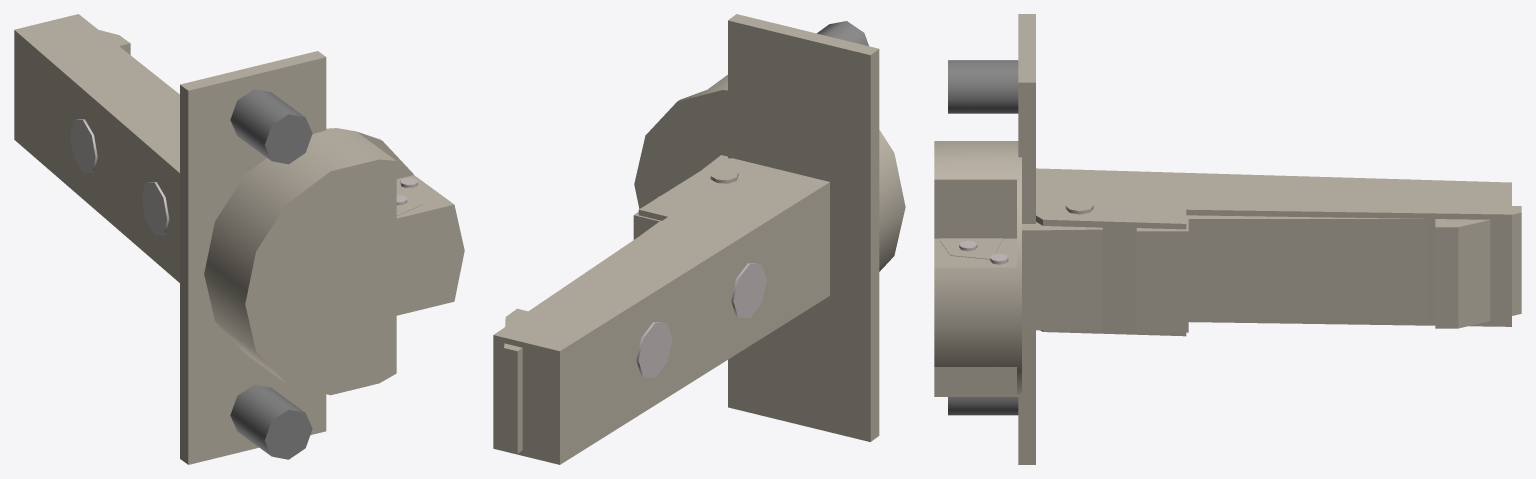
The picture shows the model from 3 angles, left to right: view 1: azimuth 30°, elevation 25°; view 2: azimuth 150°, elevation 25°; view 3: azimuth 270°, elevation 25°; orthographic projection. The views are drawn at different scales.
Visible parts, largest first — view 1: bau0045622955-1, bau0045622803-1; view 2: bau0045622803-1, bau0045622955-1, bau0019426112-1; view 3: bau0019426112-1, bau0045622955-1, bau0045622803-1, bau0016549209-1, bau0016549175-2.
Part boxes in pixels (box(x1,y1,x2,y2)): bau0045622955-1: box(180, 51, 464, 464); bau0045622803-1: box(14, 14, 179, 282); bau0045622803-1: box(493, 158, 829, 464); bau0045622955-1: box(634, 14, 905, 441); bau0019426112-1: box(504, 196, 661, 453); bau0019426112-1: box(1136, 206, 1521, 332); bau0045622955-1: box(934, 14, 1035, 464); bau0045622803-1: box(1036, 168, 1511, 336); bau0016549209-1: box(1022, 222, 1102, 330); bau0016549175-2: box(939, 238, 1003, 259).
Bounding box in the file's own units: 37.5 × 57 × 79.35.
